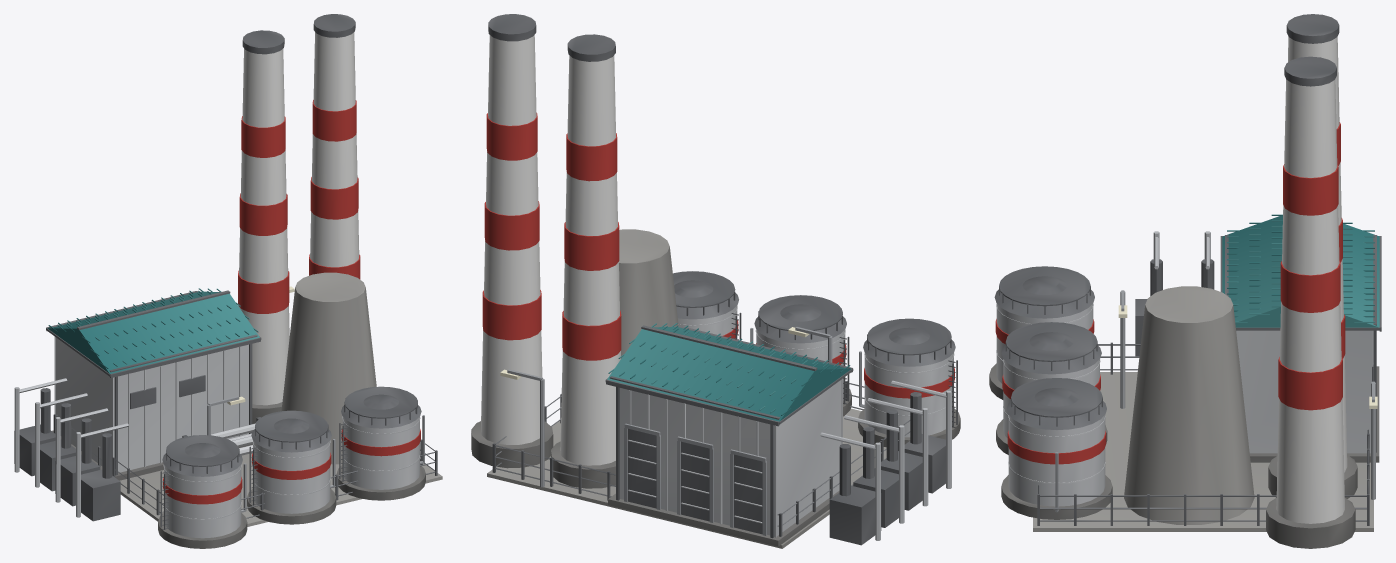
File: Power_P3.fbx
3 views of the same model, side by side, from view 1: azimuth 30°, elevation 25°; view 2: azimuth 150°, elevation 25°; view 3: azimuth 270°, elevation 25° (orthographic). The views are drawn at different scales.
Visible parts, largest first — view 1: Power.Hall, Power.Stack0, Power.Stack1, Power.CoolingTowers, Power.Tank0, Power.Tank1, Power.Tank2, Power.Switchyard, Power.Yard, Power.Fence, Power.Pipes; view 2: Power.Hall, Power.Stack1, Power.Stack0, Power.Switchyard, Power.Tank0, Power.CoolingTowers, Power.Tank1, Power.Tank2, Power.Yard, Power.Fence, Power.Lamp1; view 3: Power.Stack1, Power.CoolingTowers, Power.Hall, Power.Tank2, Power.Yard, Power.Tank0, Power.Tank1, Power.Stack0, Power.Fence, Power.Switchyard, Power.Lamp0, Power.Lamp1.
Boxes of the visible parts, bbox=[...] form: Power.Hall: bbox=[46, 288, 261, 480]; Power.Stack0: bbox=[238, 30, 289, 423]; Power.Stack1: bbox=[309, 14, 360, 279]; Power.CoolingTowers: bbox=[281, 272, 376, 464]; Power.Tank0: bbox=[158, 435, 247, 548]; Power.Tank1: bbox=[247, 410, 336, 524]; Power.Tank2: bbox=[336, 386, 425, 500]; Power.Switchyard: bbox=[14, 378, 128, 521]; Power.Yard: bbox=[120, 453, 442, 526]; Power.Fence: bbox=[53, 414, 437, 518]; Power.Pipes: bbox=[182, 417, 260, 455]; Power.Hall: bbox=[605, 323, 853, 546]; Power.Stack1: bbox=[471, 14, 553, 468]; Power.Stack0: bbox=[551, 34, 621, 488]; Power.Switchyard: bbox=[820, 380, 951, 545]; Power.Tank0: bbox=[858, 318, 960, 447]; Power.CoolingTowers: bbox=[619, 229, 678, 358]; Power.Tank1: bbox=[750, 295, 851, 416]; Power.Tank2: bbox=[673, 271, 741, 339]; Power.Yard: bbox=[487, 408, 886, 548]; Power.Fence: bbox=[492, 381, 910, 536]; Power.Lamp1: bbox=[500, 369, 544, 487]; Power.Stack1: bbox=[1266, 56, 1355, 548]; Power.CoolingTowers: bbox=[1124, 286, 1254, 524]; Power.Hall: bbox=[1220, 214, 1381, 462]; Power.Tank2: bbox=[1001, 378, 1112, 519]; Power.Yard: bbox=[1033, 372, 1373, 531]; Power.Tank0: bbox=[989, 266, 1094, 399]; Power.Tank1: bbox=[996, 322, 1107, 454]; Power.Stack0: bbox=[1268, 14, 1357, 498]; Power.Fence: bbox=[1037, 342, 1369, 525]; Power.Switchyard: bbox=[1135, 231, 1214, 356]; Power.Lamp0: bbox=[1118, 290, 1127, 408]; Power.Lamp1: bbox=[1369, 381, 1377, 499].
Size of the model in its own units: 3553 by 3621 by 2761.
